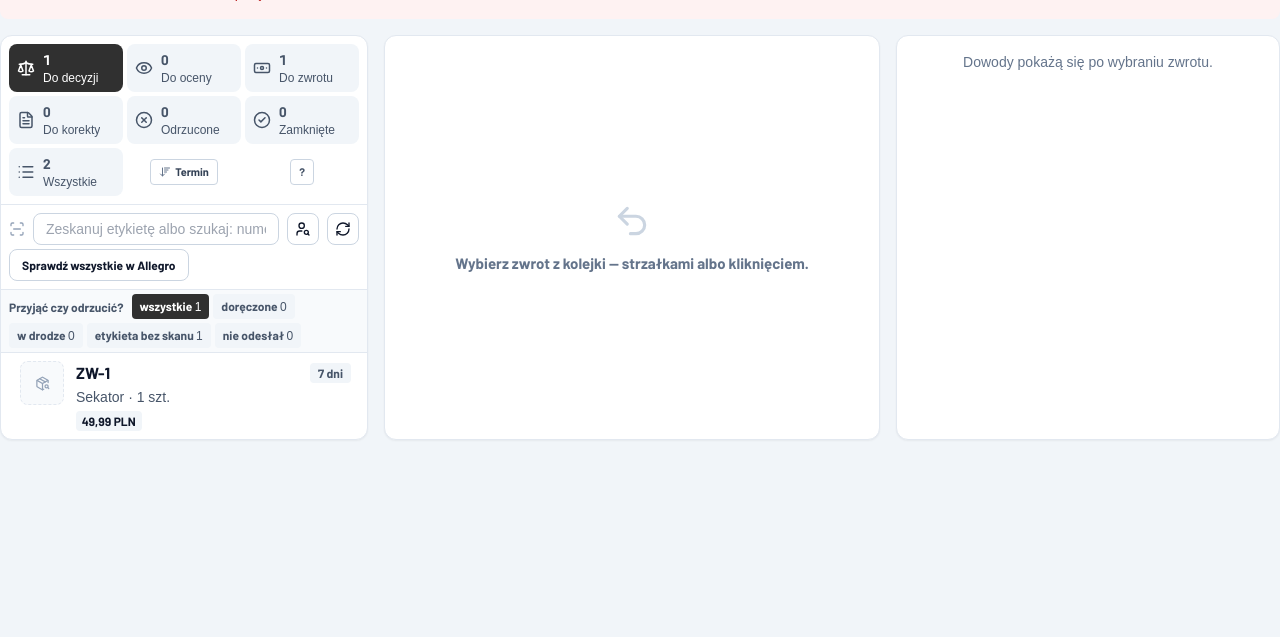
Test: Ekran zwrotów › przełączenie kubełka przestawia też kursor na pierwszy zwrot
Step 1. Click the button "1 Do zwrotu" → (302, 68), box left=245, top=44, right=359, bottom=92
(page scrolled)
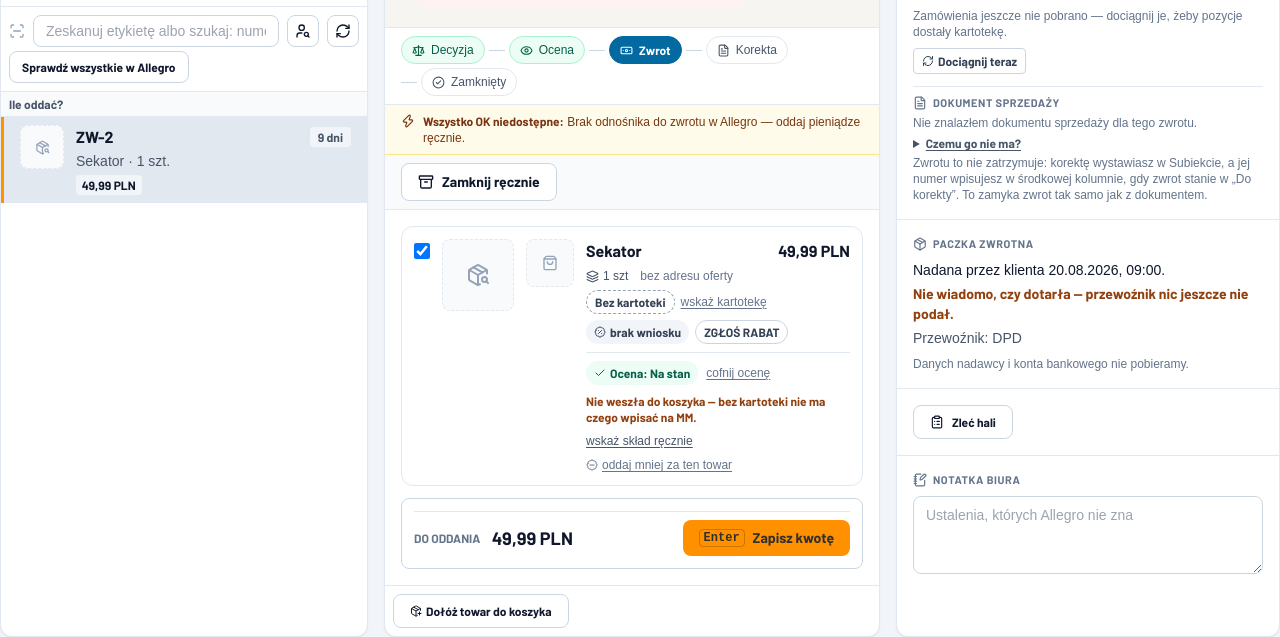
Check: the button "Enter Zapisz kwotę" is shown, box left=683, top=520, right=850, bottom=556
